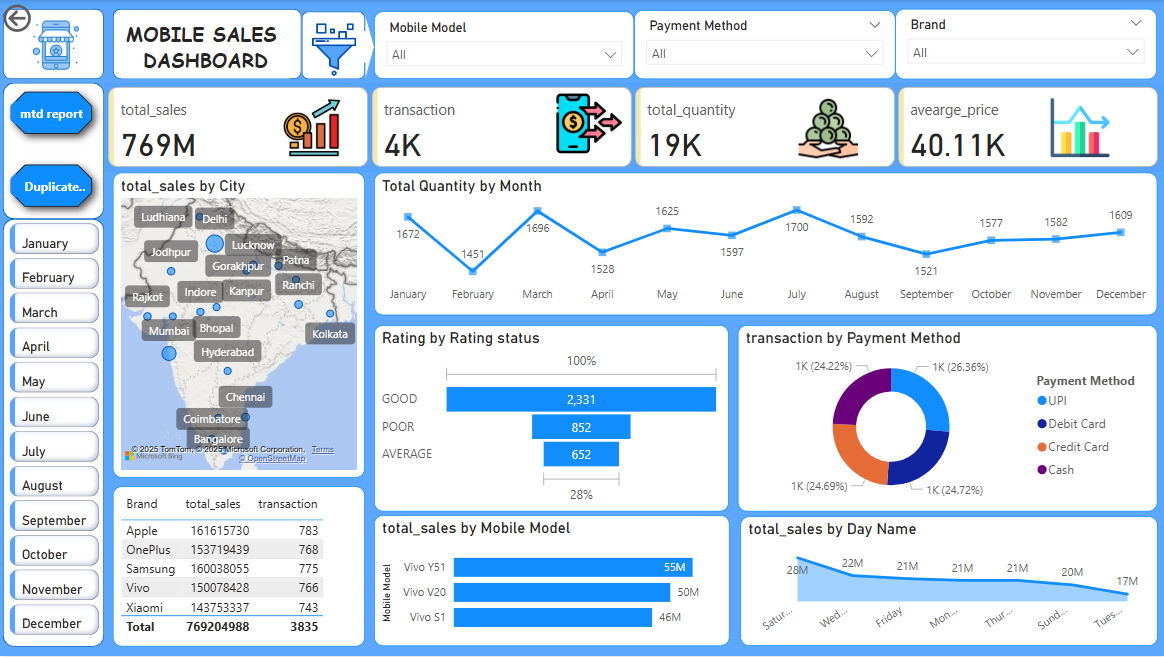

The page's visual inventory and layout, read from the dashboard file:
{"tool":"powerbi","page":{"name":"dashbaord","canvas":[1280,720],"ordinal":0},"visuals":[{"type":"shape","box":[3.6,9.7,111,77.2],"z":0},{"type":"shape","box":[3.8,90,111.2,150],"z":1000},{"type":"shape","box":[3.8,240,111.2,470],"z":2000},{"type":"advancedSlicerVisual","fields":{"Values":["custom_calendar.Date.Variation.Date Hierarchy.Month"]},"box":[6.2,240,108.8,470],"z":3000},{"type":"cardVisual","fields":{"Data":["mobile sales data.total_sales","mobile sales data.transaction","mobile sales data.total_quantity","mobile sales data.avearge_price"]},"box":[115,90,1165,98.8],"z":4000},{"type":"image","box":[0,14.5,124.3,68.8],"z":5000},{"type":"image","box":[540.5,95.3,214.7,82],"z":6000},{"type":"image","box":[811.9,101.3,196.6,79.6],"z":7000},{"type":"image","box":[1094.2,102.5,185.8,74.8],"z":8000},{"type":"image","box":[253.4,105,179.8,72.4],"z":9000},{"type":"slicer","fields":{"Values":["mobile sales data.Mobile Model"]},"box":[411.4,12.1,285.9,74.8],"z":10000},{"type":"slicer","fields":{"Values":["mobile sales data.Payment Method"]},"box":[697.3,10.9,287.1,76],"z":11000},{"type":"slicer","fields":{"Values":["mobile sales data.Brand"]},"box":[984.5,9.7,287.1,77.2],"z":12000},{"type":"shape","box":[331.8,12.1,70,74.8],"z":13000},{"type":"image","box":[333,19.3,68.8,71.2],"z":14000},{"type":"shape","box":[392.1,16.9,19.3,70],"z":15000},{"type":"shape","box":[124.3,9.7,207.5,77.2],"z":16000},{"type":"textbox","box":[135.1,16.9,184.6,70],"z":17000},{"type":"map","fields":{"Size":["mobile sales data.total_sales"],"Category":["mobile sales data.City"]},"box":[124.9,189.4,277.2,334.8],"z":18000},{"type":"lineChart","title":"Total Quantity by Month","fields":{"Category":["custom_calendar.Date.Variation.Date Hierarchy.Month"],"Y":["mobile sales data.total_quantity"]},"box":[411.7,189.4,860.4,156.4],"z":19000},{"type":"funnel","title":"Rating by Rating status","fields":{"Y":["CountNonNull(mobile sales data.Customer Ratings)"],"Category":["mobile sales data.RATING STATUS"]},"box":[411.7,356.8,389.7,204.5],"z":20000},{"type":"donutChart","fields":{"Y":["mobile sales data.transaction"],"Category":["mobile sales data.Payment Method"]},"box":[811,356.8,461.1,204.5],"z":21000},{"type":"clusteredBarChart","fields":{"Y":["mobile sales data.total_sales"],"Category":["mobile sales data.Mobile Model"]},"box":[411.4,565.7,390,144.3],"z":22000},{"type":"areaChart","fields":{"Category":["custom_calendar.Day Name"],"Y":["mobile sales data.total_sales"]},"box":[813.7,566.7,458.3,142.7],"z":23000},{"type":"tableEx","fields":{"Values":["mobile sales data.Brand","mobile sales data.total_sales","mobile sales data.transaction"]},"box":[124.9,533.8,277.2,175.6],"z":24000},{"type":"actionButton","box":[0,0,100,40],"z":25000},{"type":"pageNavigator","box":[0,87.8,115.3,152.3],"z":26000}]}

Visuals, with their boxes in screenshot pixels (x1, y1, x2, y2), scaled from the page's 1280x720 canvas onto the 1164x657 screenshot:
shape: bbox(3, 9, 104, 79)
shape: bbox(3, 82, 105, 219)
shape: bbox(3, 219, 105, 648)
advancedSlicerVisual - custom_calendar.Date.Variation.Date Hierarchy.Month: bbox(6, 219, 105, 648)
cardVisual - mobile sales data.total_sales x mobile sales data.transaction: bbox(105, 82, 1163, 172)
image: bbox(0, 13, 113, 76)
image: bbox(492, 87, 687, 162)
image: bbox(738, 92, 917, 165)
image: bbox(995, 94, 1163, 162)
image: bbox(230, 96, 394, 162)
slicer - mobile sales data.Mobile Model: bbox(374, 11, 634, 79)
slicer - mobile sales data.Payment Method: bbox(634, 10, 895, 79)
slicer - mobile sales data.Brand: bbox(895, 9, 1156, 79)
shape: bbox(302, 11, 365, 79)
image: bbox(303, 18, 365, 83)
shape: bbox(357, 15, 374, 79)
shape: bbox(113, 9, 302, 79)
textbox: bbox(123, 15, 291, 79)
map - mobile sales data.total_sales x mobile sales data.City: bbox(114, 173, 366, 478)
"Total Quantity by Month" lineChart: bbox(374, 173, 1157, 316)
"Rating by Rating status" funnel: bbox(374, 326, 729, 512)
donutChart - mobile sales data.transaction x mobile sales data.Payment Method: bbox(738, 326, 1157, 512)
clusteredBarChart - mobile sales data.total_sales x mobile sales data.Mobile Model: bbox(374, 516, 729, 648)
areaChart - custom_calendar.Day Name x mobile sales data.total_sales: bbox(740, 517, 1157, 647)
tableEx - mobile sales data.Brand x mobile sales data.total_sales: bbox(114, 487, 366, 647)
actionButton: bbox(0, 0, 91, 36)
pageNavigator: bbox(0, 80, 105, 219)
